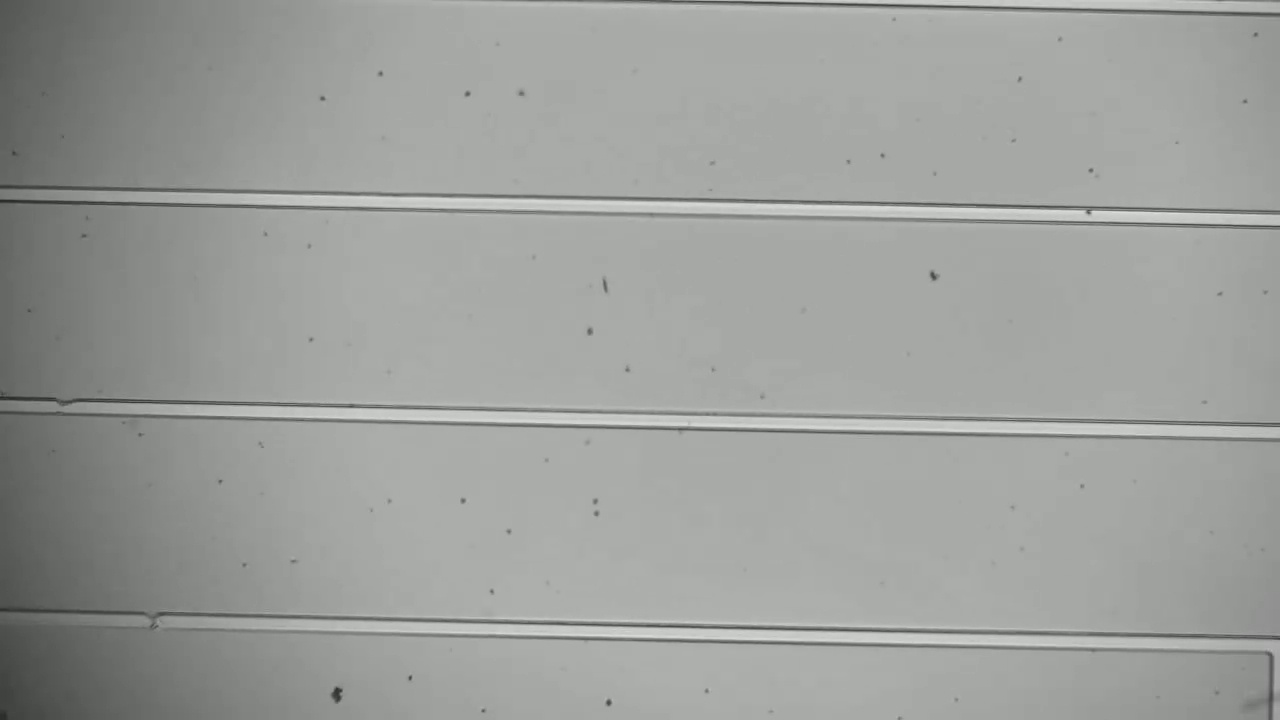edge_bite: (41, 387, 90, 424), (139, 606, 166, 641)
